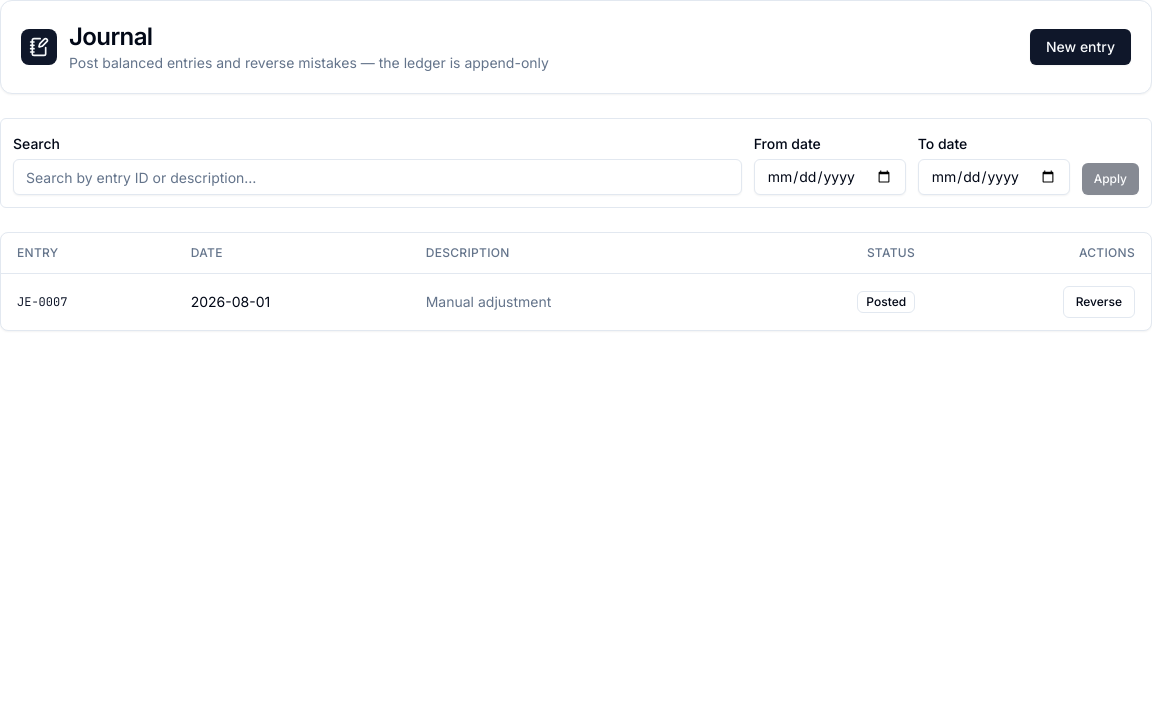
Test: JournalView — clickable entries open the detail modal › shows a manual source label when the entry has no source document
The width and height of the screenshot is (1152, 720).
Click the button with aria-label "View entry details". click: (42, 302)
box: top-left (17, 294), bottom-right (67, 310)
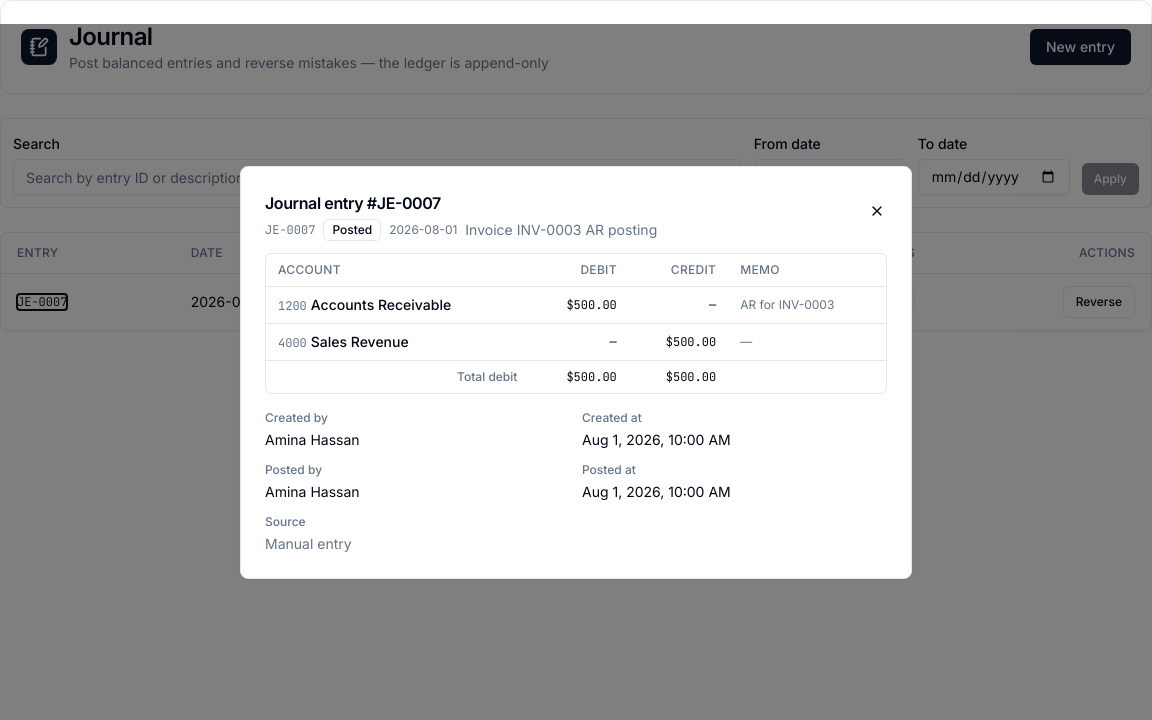
Result: the heading "Journal entry #JE-0007" is shown at top-left (265, 192), bottom-right (441, 212)
Result: the text "Manual entry" is shown at top-left (265, 534), bottom-right (352, 552)
